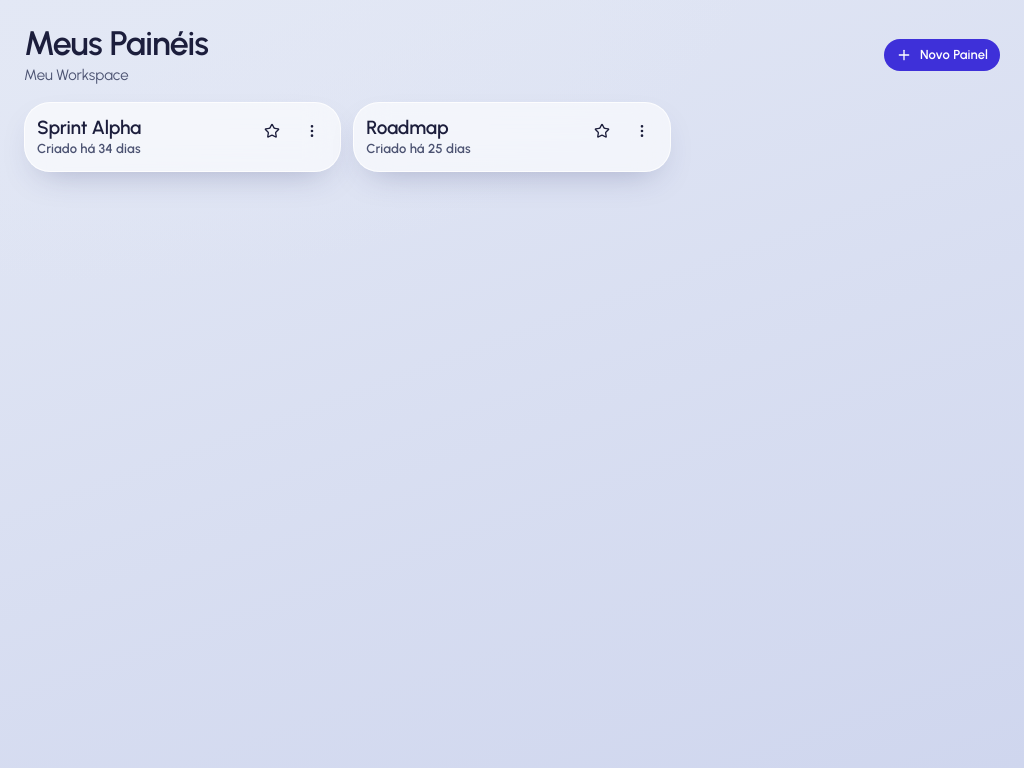
Test case: PaineisPage › depois de excluir, o foco vai pro título da página — o botão de origem sumiu com o card
The image size is (1024, 768).
Click the button named "Ações de Roadmap" next to "há 25 dias".
click(642, 131)  # box [626,115,658,147]
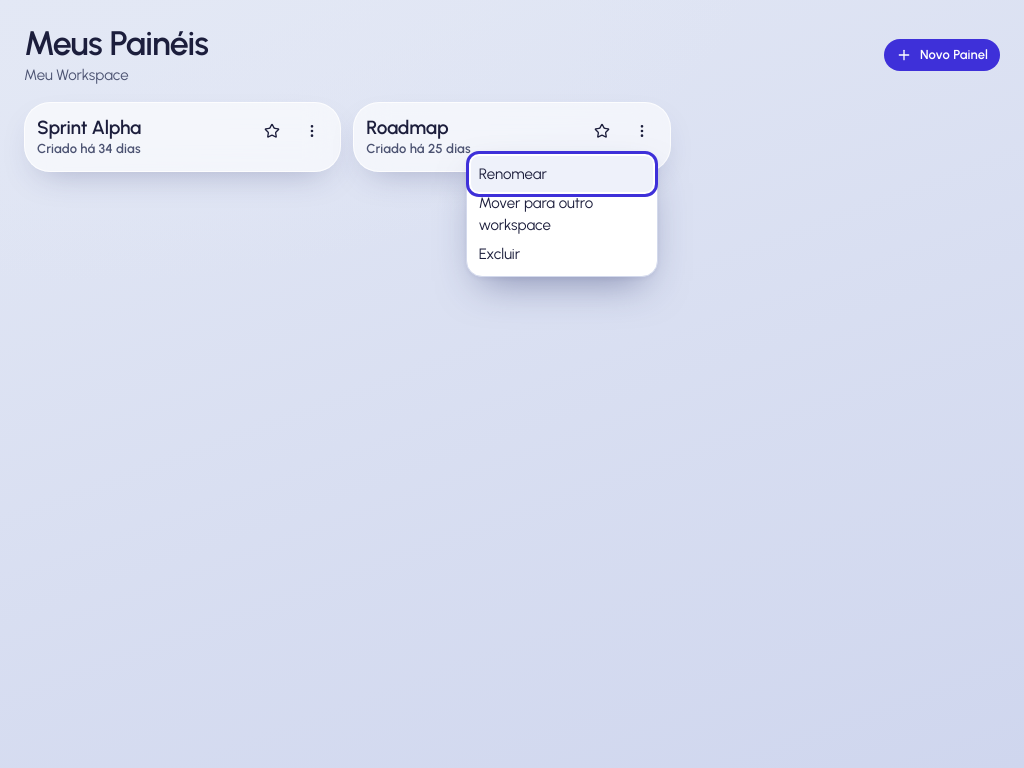
Click the menu item "Excluir".
click(562, 254)  # box [471,236,653,272]
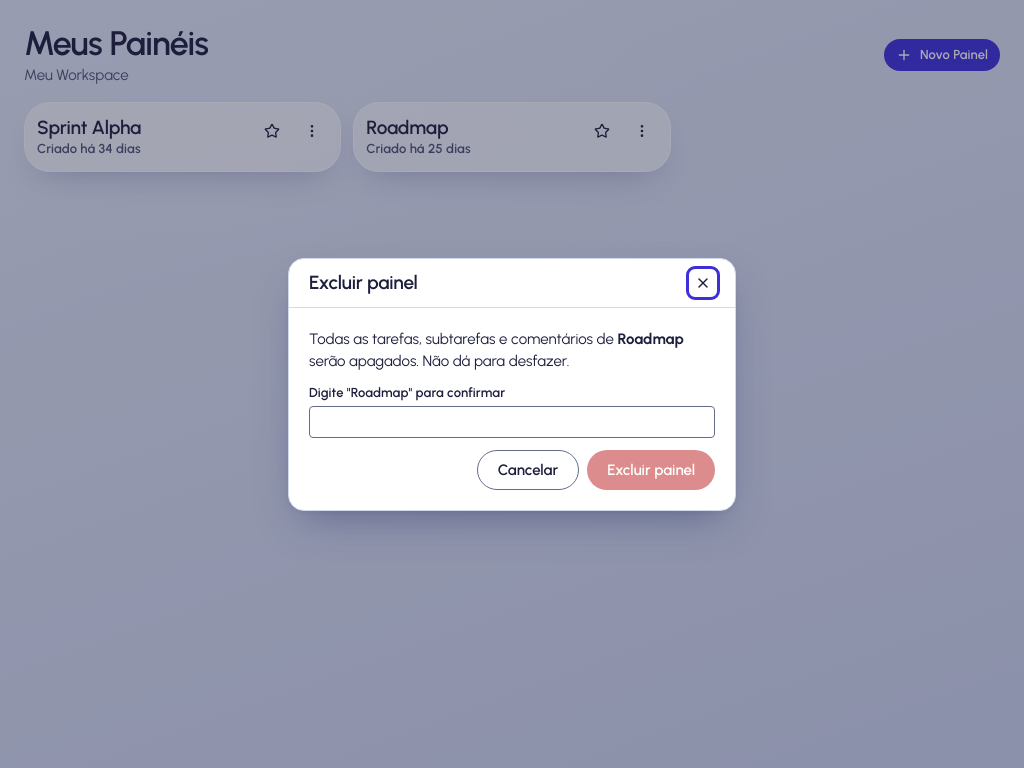
Type "Roadmap" into the field labelled "Digite \"Roadmap\" para confirmar".
click(512, 422); type("Roadmap")  # box [309,406,715,438]
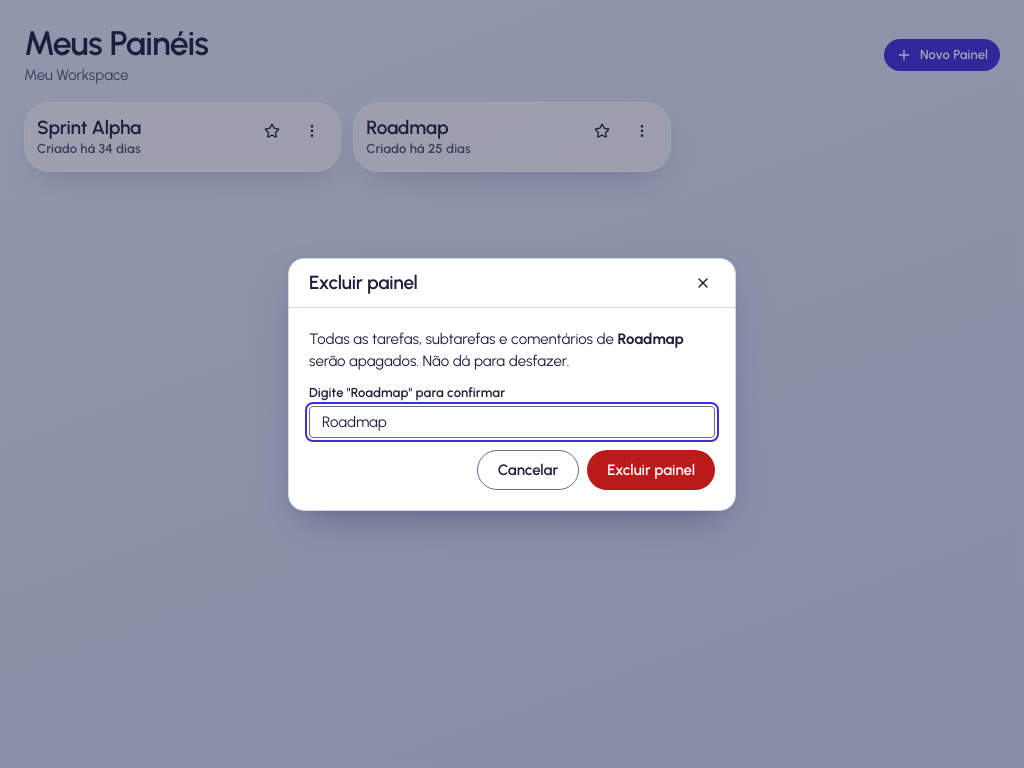
Click the button "Excluir painel".
click(651, 470)  # box [587,450,715,490]
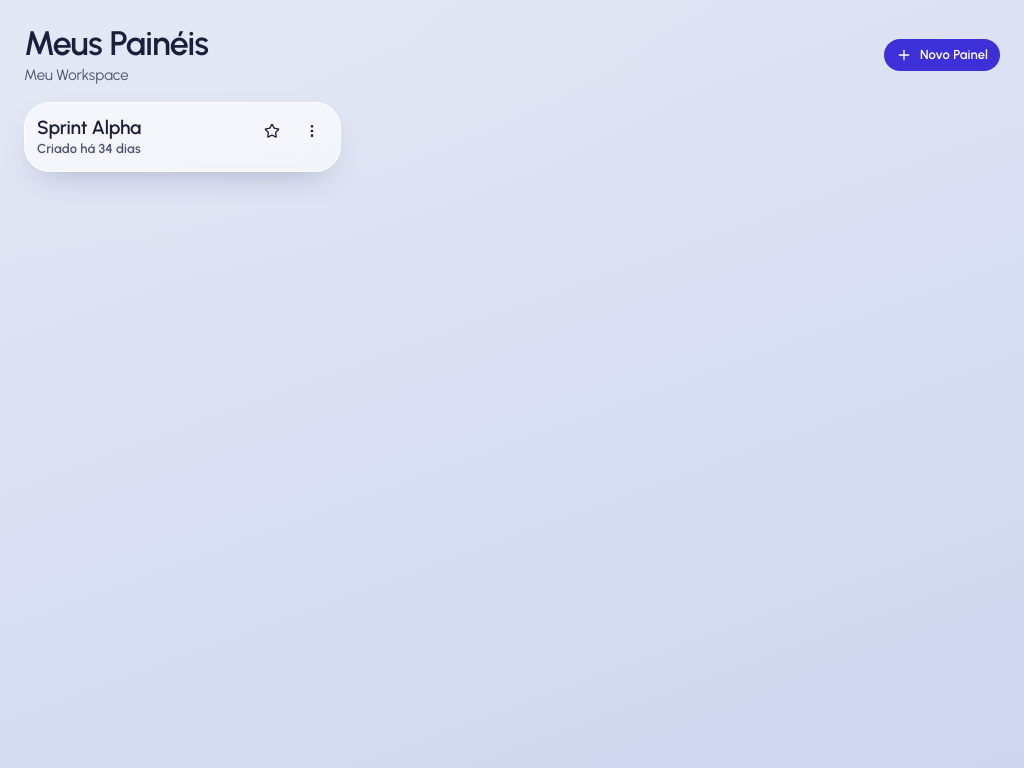
Result: the link "Roadmap" is gone
